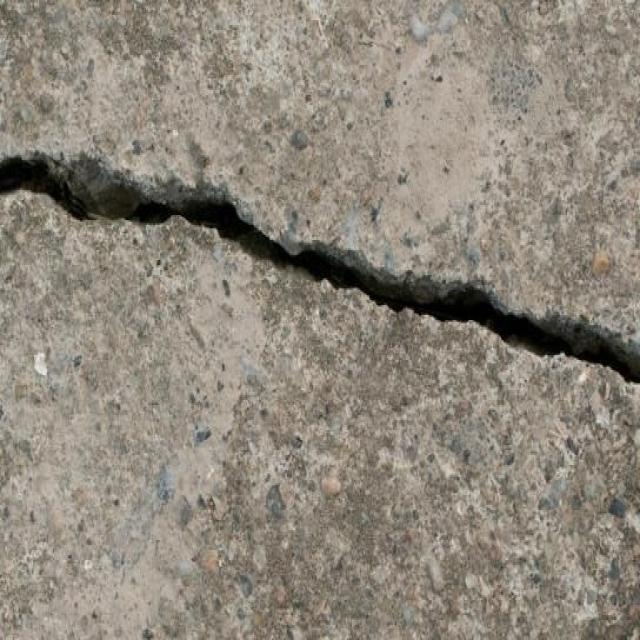crack: (0, 148, 639, 393)
